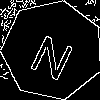N: (27, 25, 81, 82)
